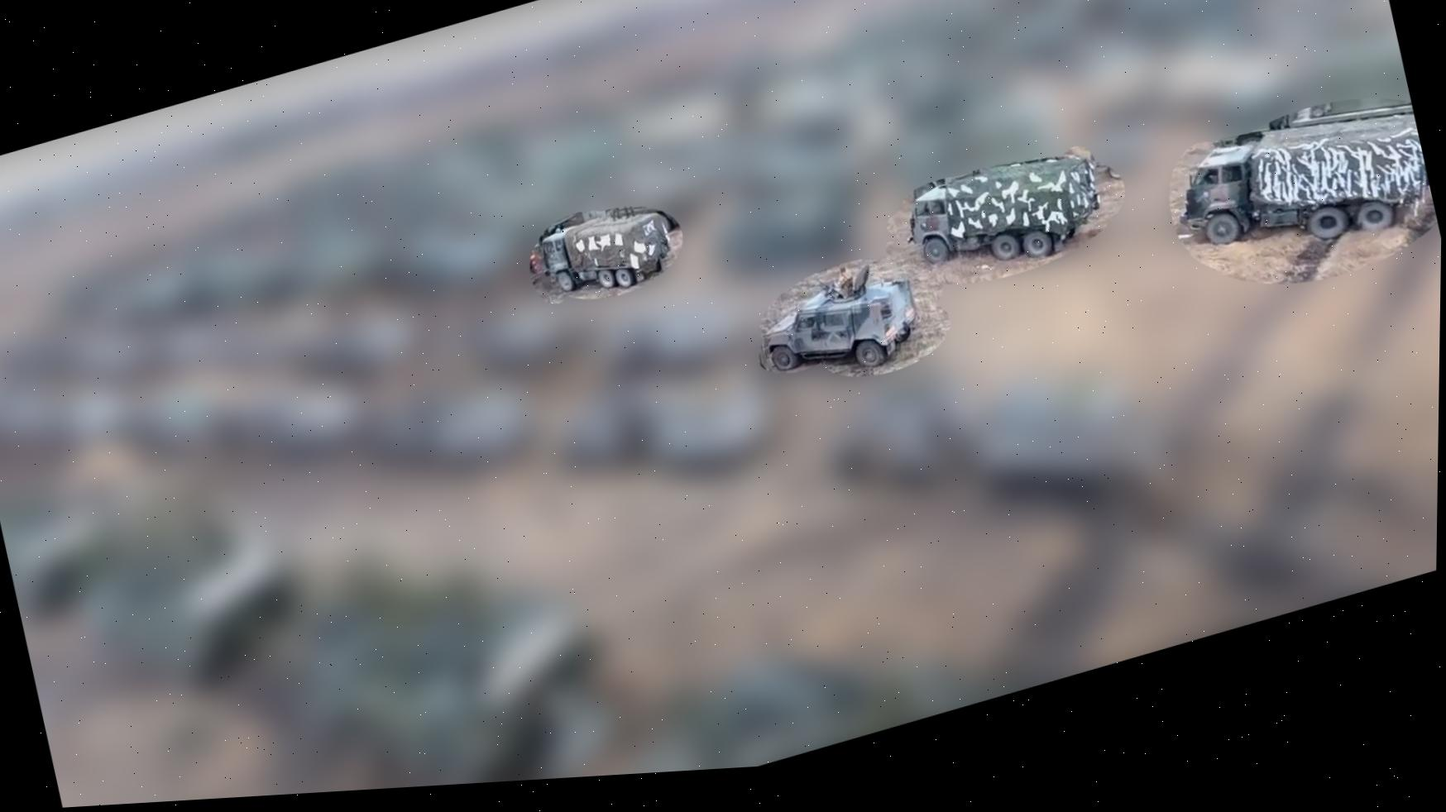armored_car: (748, 256, 929, 397)
truck: (1165, 90, 1439, 291), (897, 135, 1115, 301), (531, 197, 681, 316)
